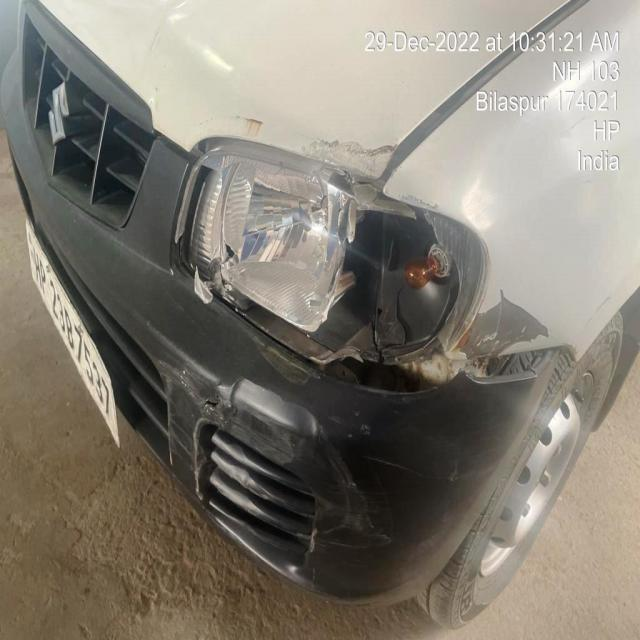damage: (168, 134, 485, 349), (191, 380, 384, 579), (479, 294, 552, 371)
